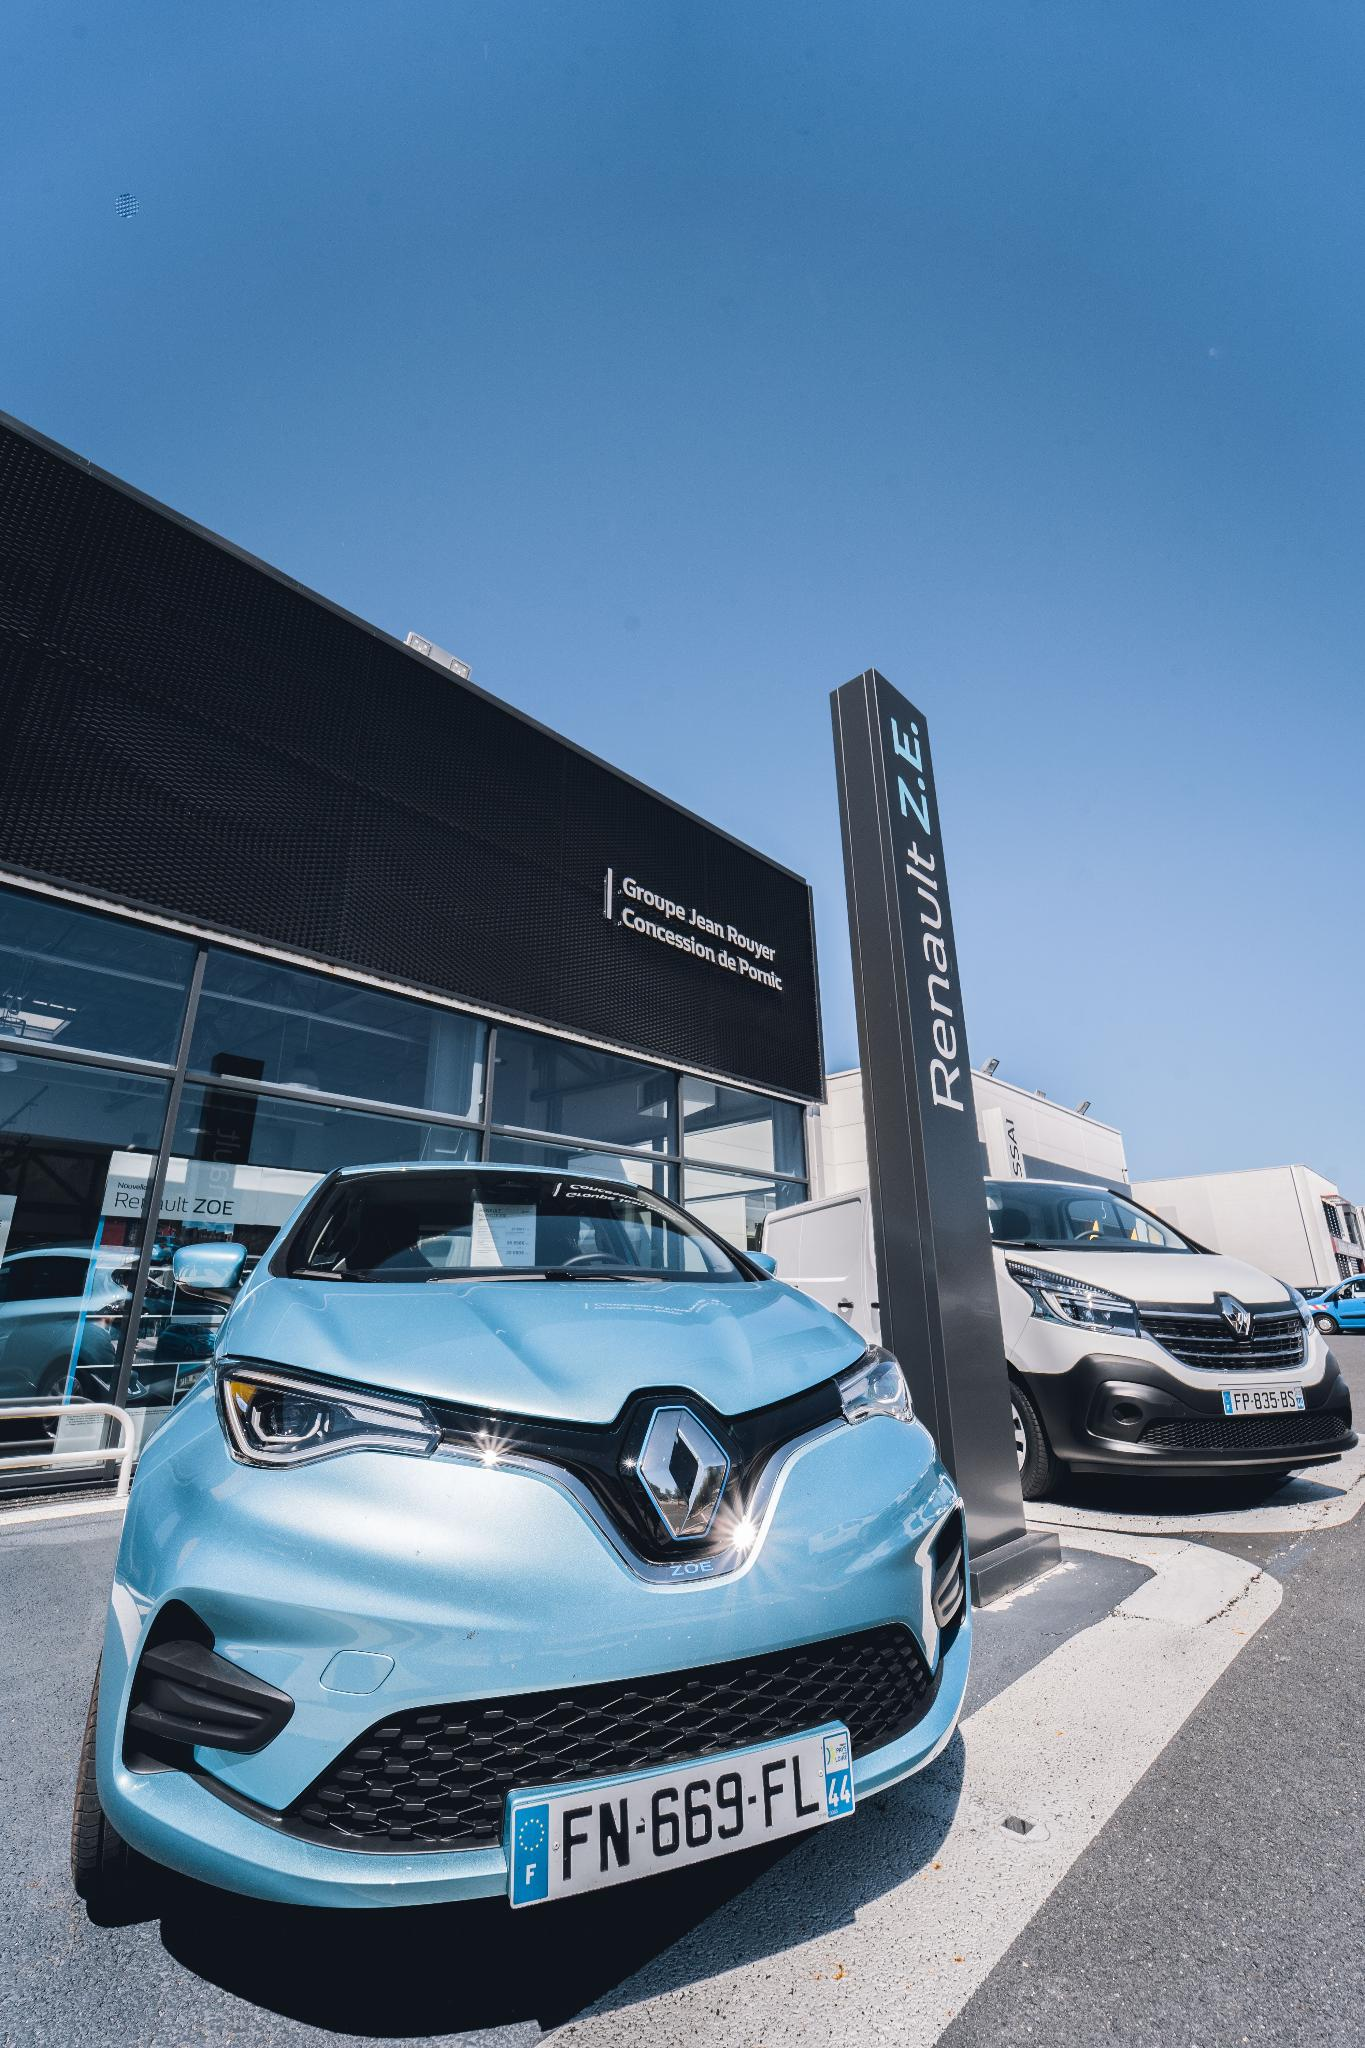Renault: (611, 1384, 760, 1587), (1214, 1282, 1260, 1352)
